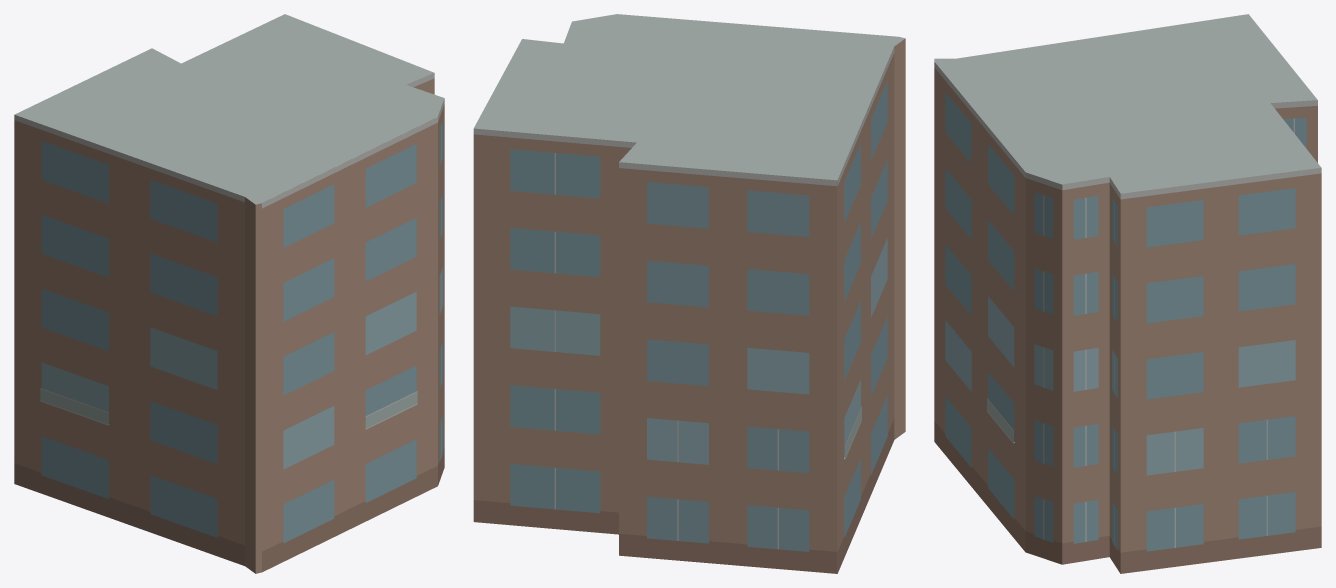
File: survey-upis-33038183.glb
3 renders of one model, left to right at view 1: azimuth 30°, elevation 25°; view 2: azimuth 150°, elevation 25°; view 3: azimuth 270°, elevation 25°, orthographic. The views are drawn at different scales.
Parts seen in each view (by area): view 1: survey-upis-33038183.tmp; view 2: survey-upis-33038183.tmp; view 3: survey-upis-33038183.tmp.
Part boxes in pixels (x1,y1,x2,y2): survey-upis-33038183.tmp: [14, 14, 444, 573]; survey-upis-33038183.tmp: [473, 14, 905, 573]; survey-upis-33038183.tmp: [934, 14, 1321, 573].
Bounding box in the file's own units: 16.65 × 16.4 × 15.15.
